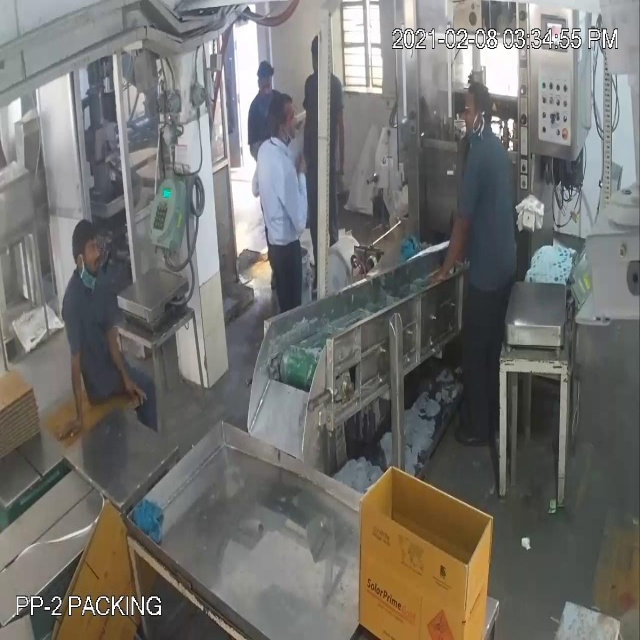Sin_guantes: (418, 188, 478, 298), (100, 316, 154, 428), (53, 313, 93, 452), (327, 76, 352, 186), (281, 152, 310, 240)
